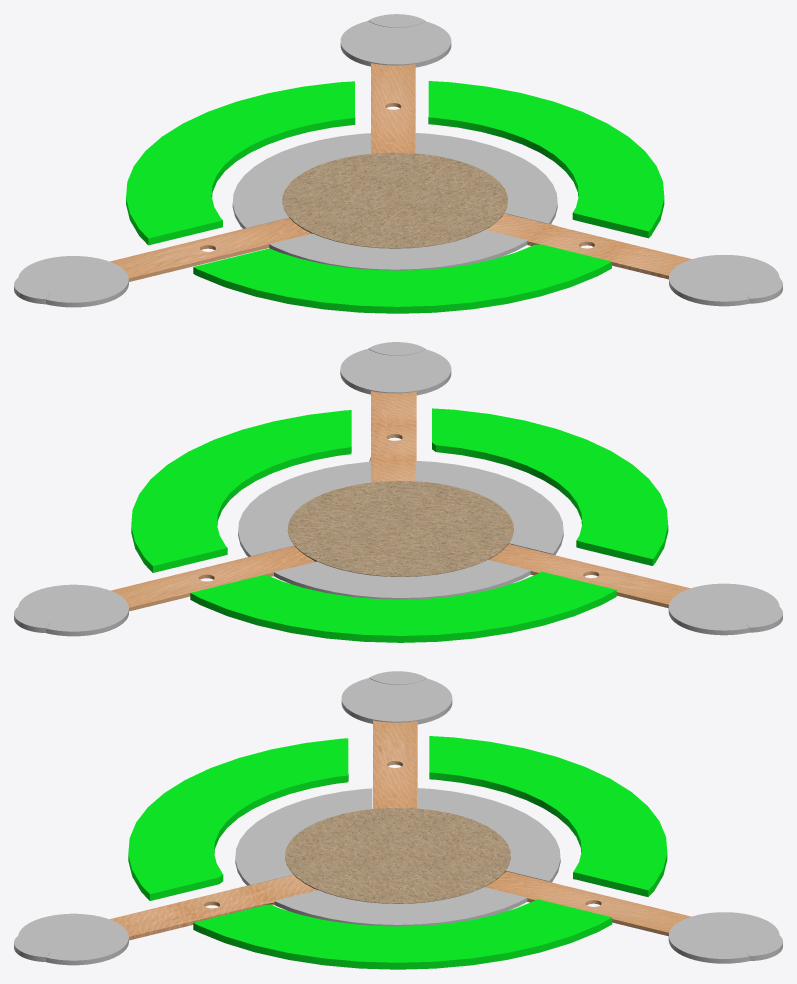
File: kartan.fbx
The picture shows the model from 3 angles, top to bottom: view 1: azimuth 30°, elevation 25°; view 2: azimuth 150°, elevation 25°; view 3: azimuth 270°, elevation 25°; orthographic projection.
Parts seen in each view (by area): view 1: Cylinder019, Cylinder001, Cylinder018, Cylinder008, Cylinder020, Box013, Box014, Cylinder015, Cylinder017, Cylinder013, Box012, Cylinder011 (+2 smaller); view 2: Cylinder018, Cylinder001, Cylinder008, Cylinder019, Cylinder020, Box012, Cylinder015, Cylinder017, Cylinder013, Box014, Box013, Cylinder016 (+2 smaller); view 3: Cylinder020, Cylinder001, Cylinder018, Cylinder008, Cylinder019, Box014, Box012, Cylinder013, Cylinder015, Cylinder017, Box013, Cylinder014 (+2 smaller).
Boxes of the visible parts, x1,y1,x2,y2 form: Cylinder019: (193,244,611,313); Cylinder001: (282,152,507,248); Cylinder018: (126,81,355,245); Cylinder008: (232,133,557,270); Cylinder020: (428,81,664,238); Box013: (110,218,311,281); Box014: (486,213,691,279); Cylinder015: (340,21,451,67); Cylinder017: (18,256,128,307); Cylinder013: (669,255,779,306); Box012: (371,63,415,153); Cylinder011: (746,278,782,303); Cylinder018: (190,571,616,642); Cylinder001: (287,481,513,576); Cylinder008: (238,461,563,599); Cylinder019: (432,408,668,565); Cylinder020: (131,410,351,572); Box012: (111,546,314,611); Cylinder015: (18,584,128,636); Cylinder017: (668,583,779,635); Cylinder013: (340,349,451,395); Box014: (369,391,416,482); Box013: (489,544,689,608); Cylinder016: (746,606,782,632); Cylinder020: (193,899,612,969); Cylinder001: (285,808,510,903); Cylinder018: (429,736,667,896); Cylinder008: (235,788,560,926); Cylinder019: (128,738,348,900); Box014: (109,875,317,940); Box012: (486,871,690,936); Cylinder013: (18,913,128,965); Cylinder015: (668,912,779,963); Cylinder017: (341,678,452,724); Box013: (373,720,417,808); Cylinder014: (746,935,782,960).
Size of the model in its own units: 3752 by 4093 by 67.49.
